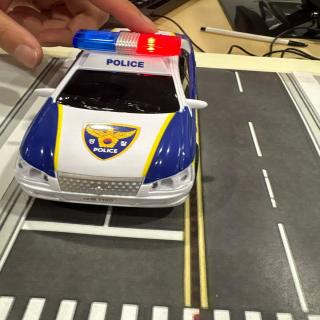Police_car: (16, 28, 207, 207)
